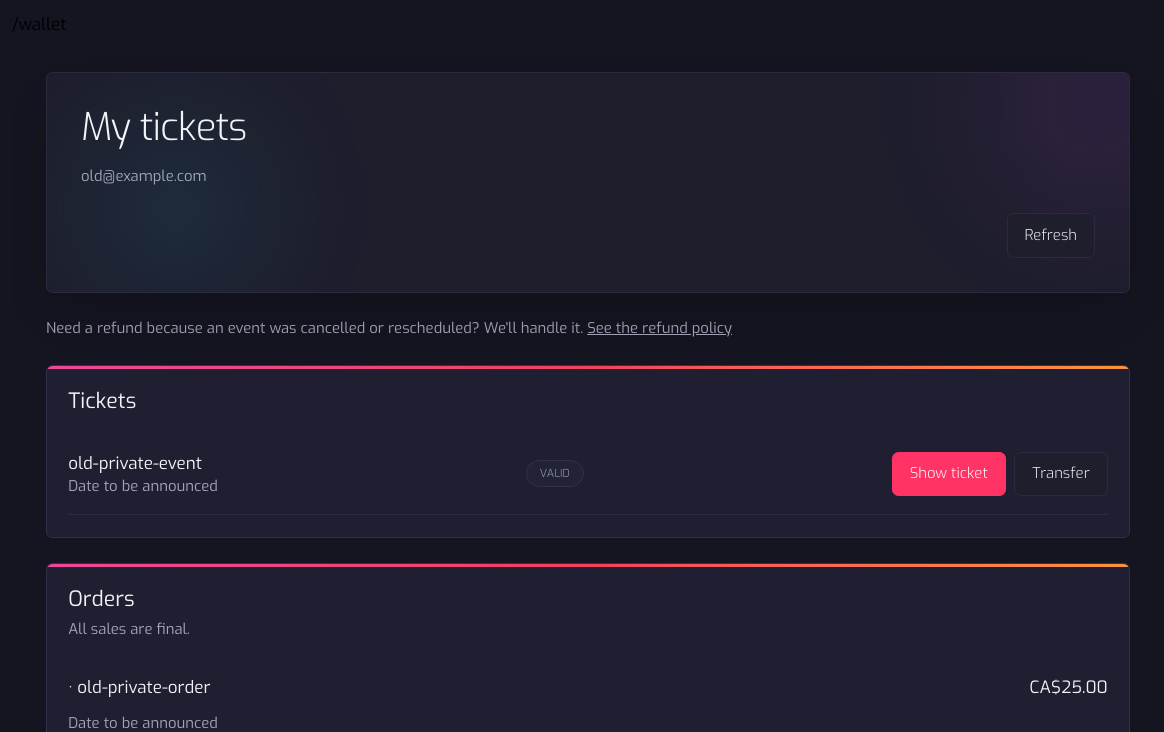
Test: App wallet recovery with real auth and API interceptors › discards an old QR response after an account switch using the real generation fence
Check: the text "· old-private-order" is shown, box x1=68 y1=674 x2=211 y2=700
Click the button "Show ticket". click: x=949, y=474
box: x1=892 y1=452 x2=1006 y2=496
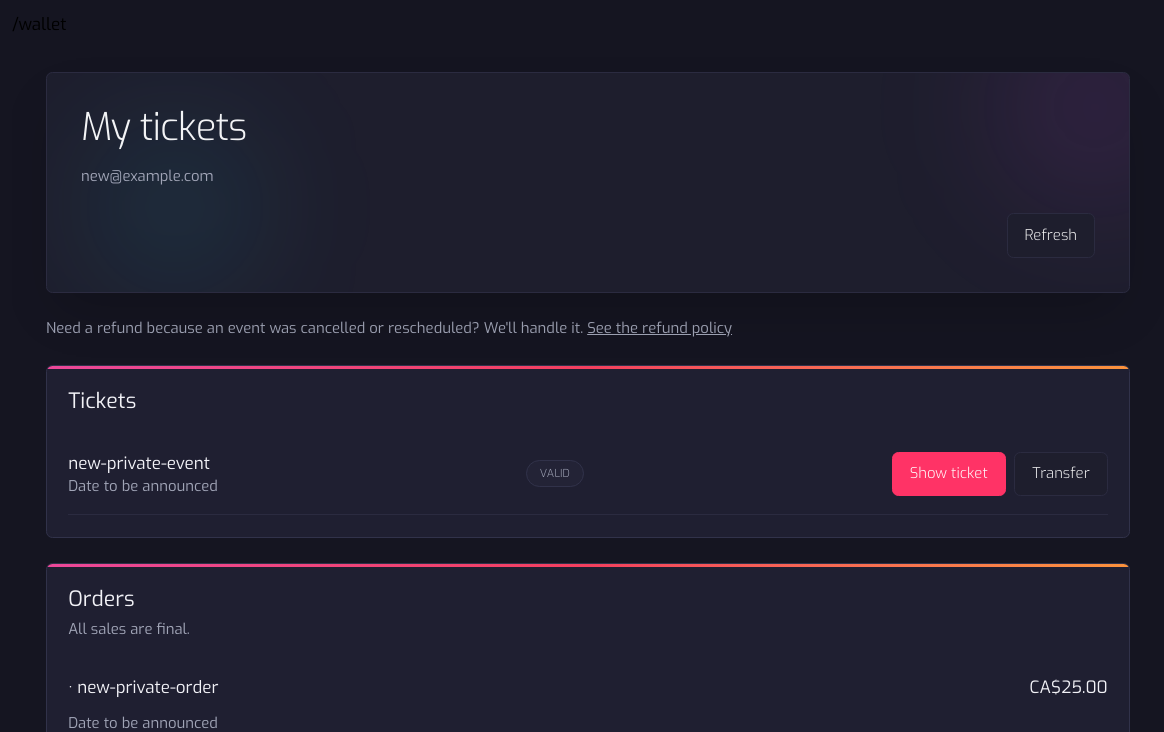
Check: the text with test id "location" reads "/wallet", box x1=12 y1=13 x2=66 y2=36
Check: the text "· new-private-order" is shown, box x1=68 y1=674 x2=219 y2=700
Check: the text "old-private-order" is gone
